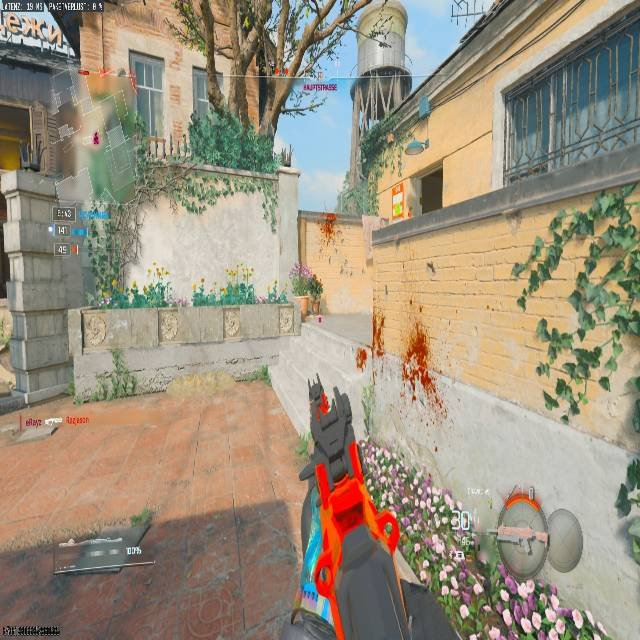head: (494, 496, 551, 575)
player: (296, 368, 366, 611)
